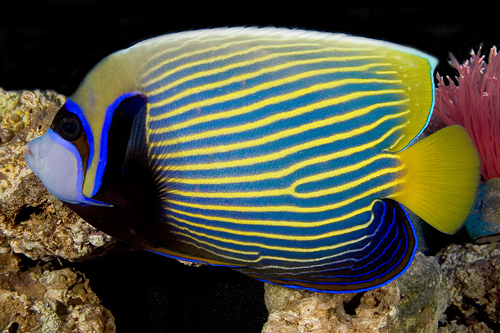Pomacanthus_imperator: (17, 16, 484, 306)
